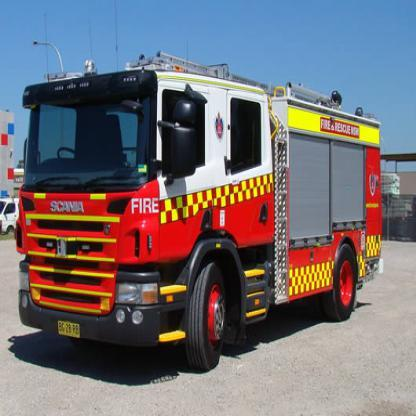fire-truck: (5, 33, 386, 381)
